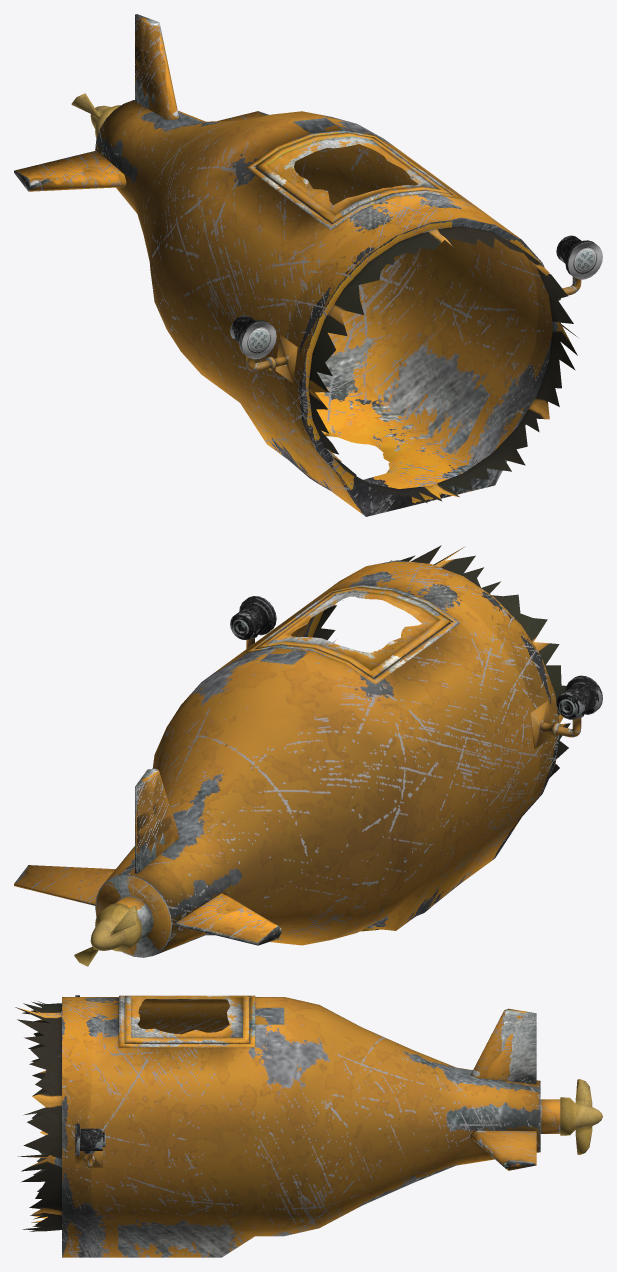
File: onderzeeer kapot .fbx
3 renders of one model, top to bottom at view 1: azimuth 30°, elevation 25°; view 2: azimuth 150°, elevation 25°; view 3: azimuth 270°, elevation 25°, orthographic. The views are drawn at different scales.
Parts seen in each view (by area): view 1: Gat in het bovenen onder; view 2: Gat in het bovenen onder; view 3: Gat in het bovenen onder.
Boxes of the visible parts, x1,y1,x2,y2 form: Gat in het bovenen onder: (14, 14, 602, 516); Gat in het bovenen onder: (14, 545, 602, 966); Gat in het bovenen onder: (15, 995, 602, 1257).
Size of the model in its own units: 2818 by 2159 by 4941.
